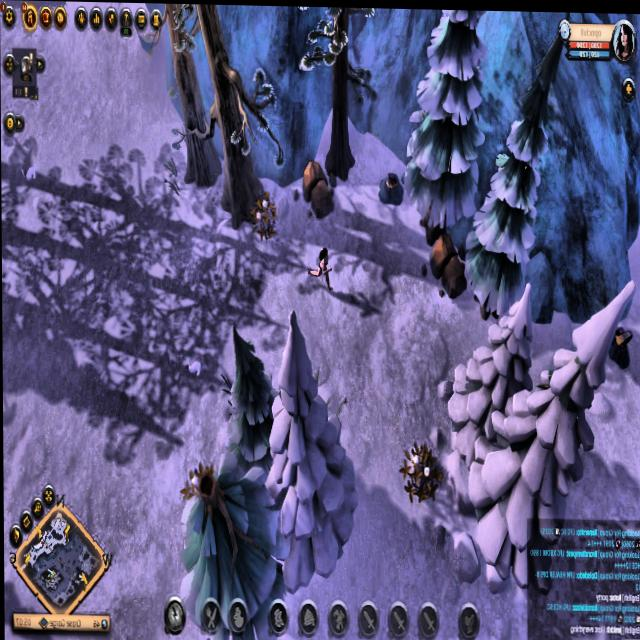copper_ore: (606, 319, 636, 370), (372, 165, 406, 207)
cotton: (394, 444, 442, 505), (246, 195, 284, 238)
limestone: (422, 230, 468, 303), (296, 152, 336, 228)
